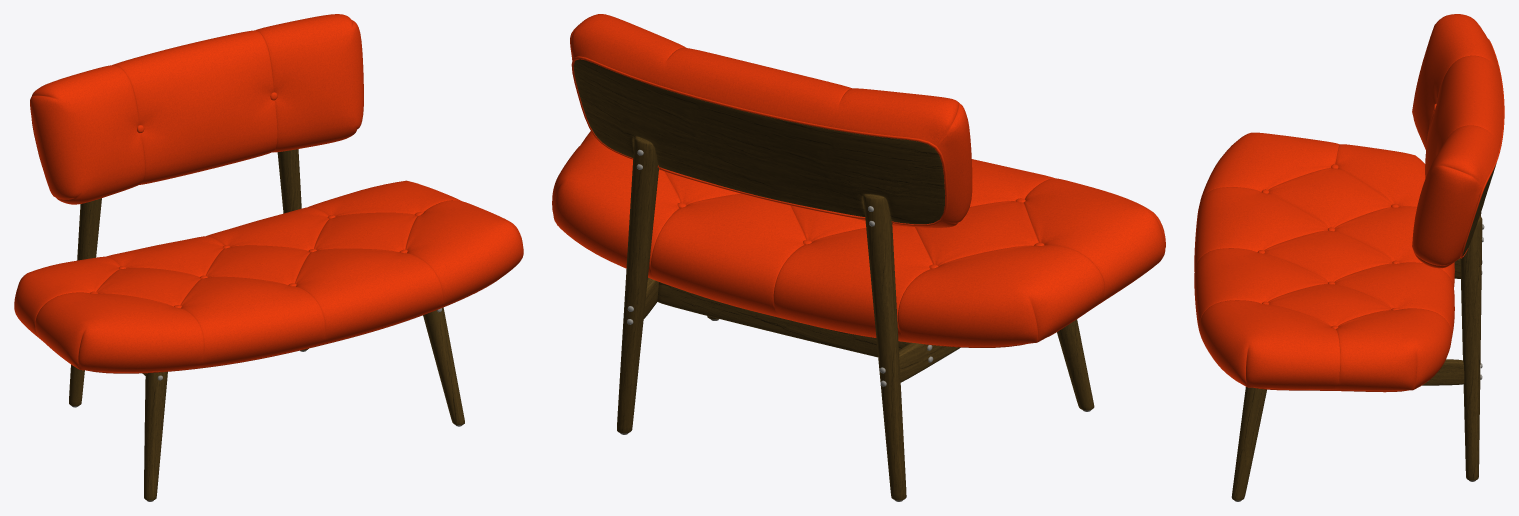
File: SheenChair_wide_seat.glb
3 views of the same model, side by side, from view 1: azimuth 30°, elevation 25°; view 2: azimuth 150°, elevation 25°; view 3: azimuth 270°, elevation 25° (orthographic). The views are drawn at different scales.
Visible parts, largest first — view 1: SheenChair_fabric, SheenChair_wood; view 2: SheenChair_fabric, SheenChair_wood; view 3: SheenChair_fabric, SheenChair_wood.
Part boxes in pixels (x1,y1,x2,y2): SheenChair_fabric: (14,14,523,373); SheenChair_wood: (69,149,464,500); SheenChair_fabric: (552,14,1165,347); SheenChair_wood: (573,59,1094,500); SheenChair_fabric: (1194,14,1504,392); SheenChair_wood: (1231,163,1496,500).
Bounding box in the file's own units: 0.9787 × 0.6862 × 0.5703.
Materials: 4 (3 with a texture image).
